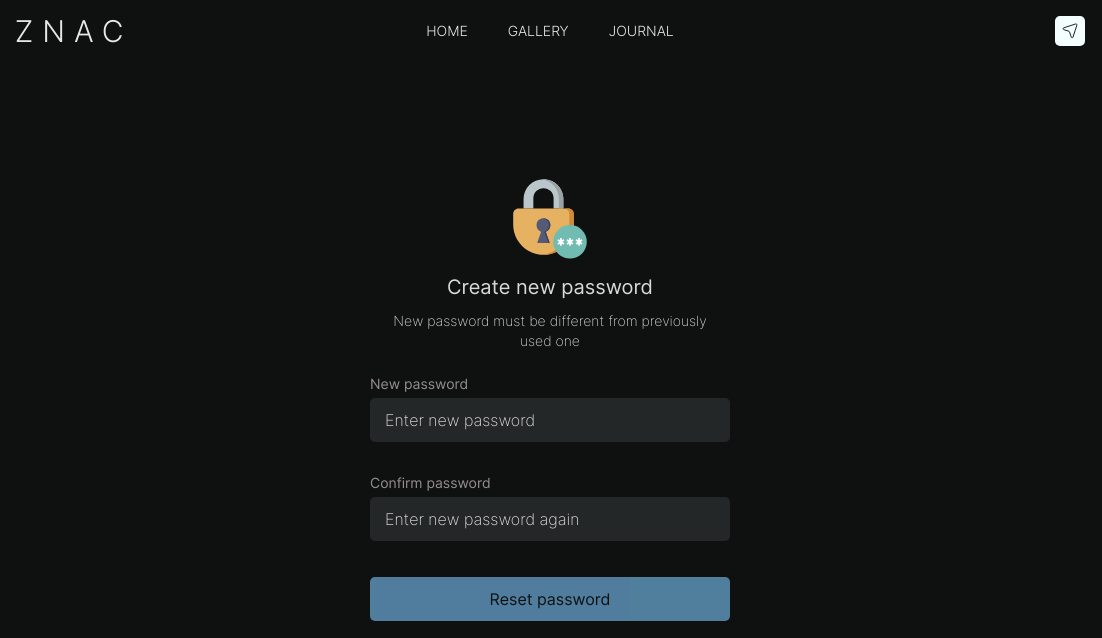
Test: a link consumed in another tab switches the submitted form to the invalid state
Expected: the heading "Create new password" is shown, [447,275,653,299]
Type "new-password-123" into the password field labelled "New password". click: (550,420)
box: [370,398,730,442]
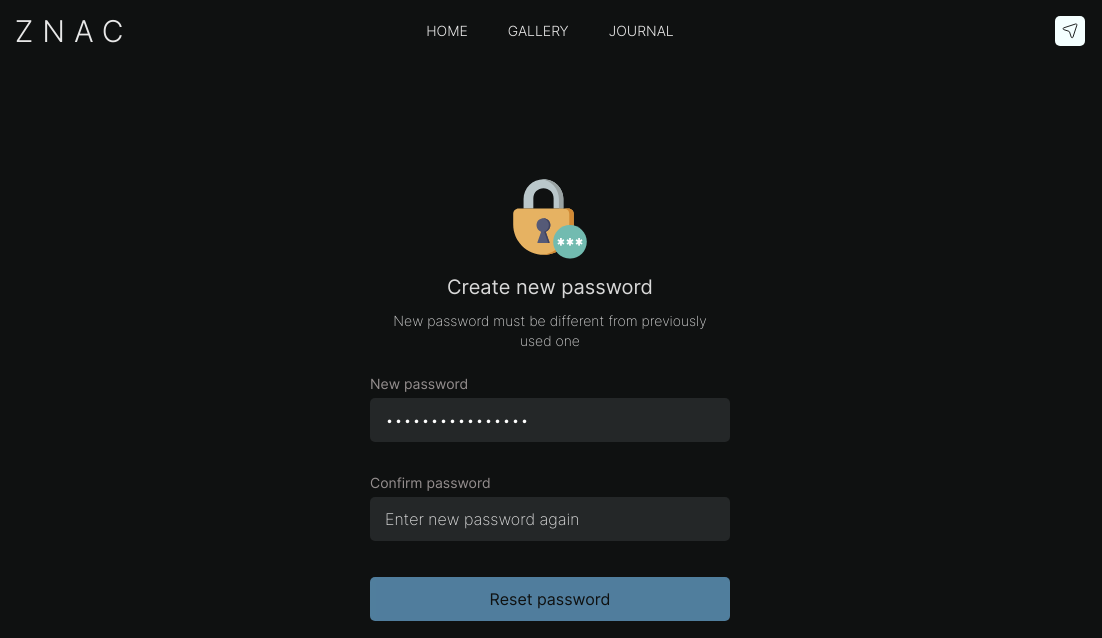
Type "new-password-123" into the password field labelled "Confirm password". click: (550,519)
box: [370,497,730,541]
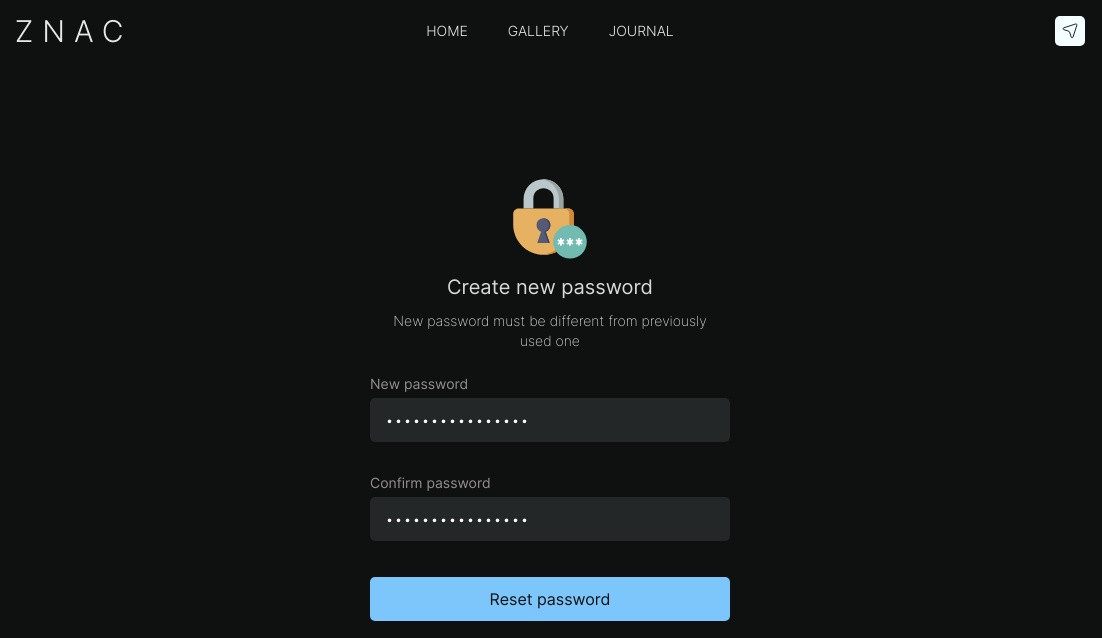
Click the button "Reset password". click: (550,599)
box: [370,577,730,621]
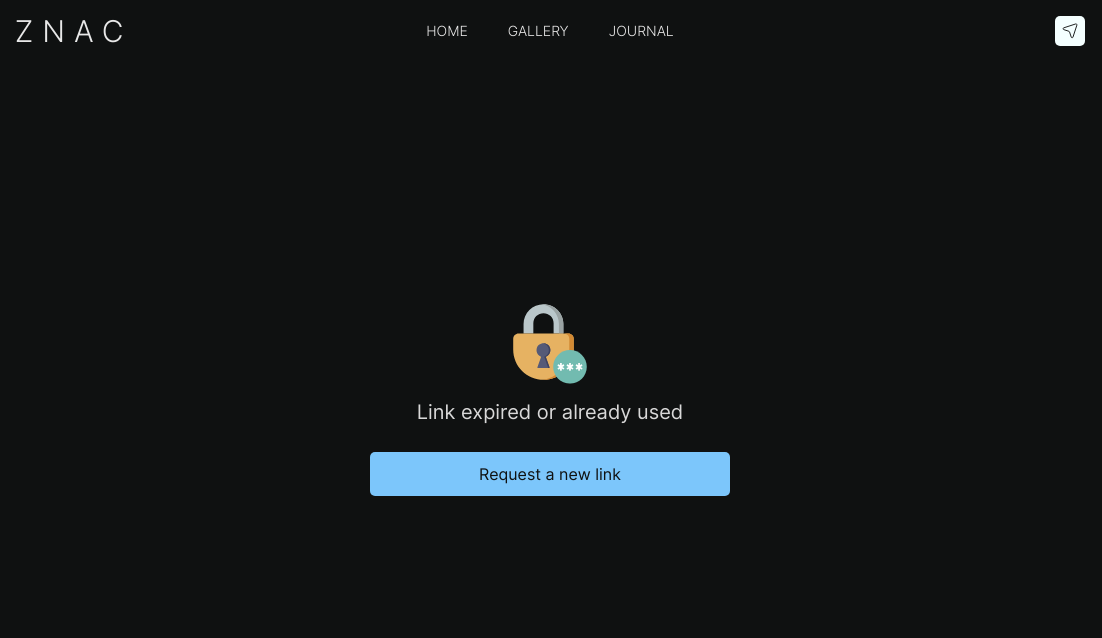
Expected: the heading "Link expired or already used" is shown, [417,400,683,424]
